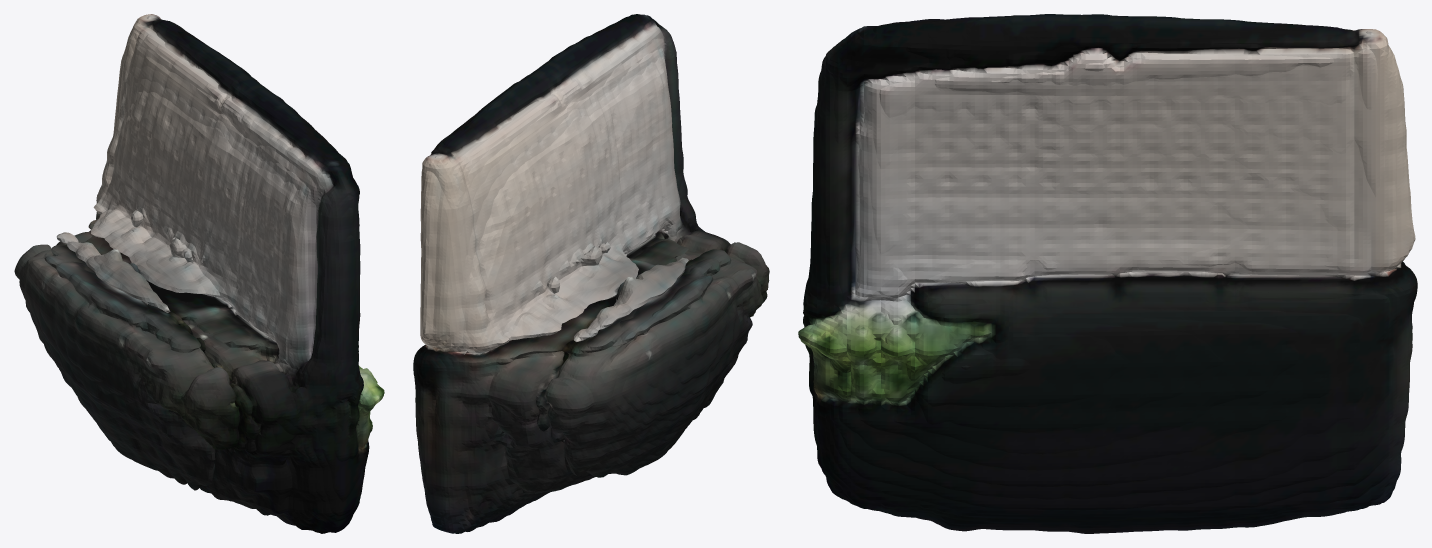
3 renders of one model, left to right at view 1: azimuth 30°, elevation 25°; view 2: azimuth 150°, elevation 25°; view 3: azimuth 270°, elevation 25°, orthographic. The views are drawn at different scales.
Visible parts, largest first — view 1: world; view 2: world; view 3: world.
Boxes of the visible parts, left/top/right/bottom form: world: left=14, top=14, right=384, bottom=533; world: left=413, top=14, right=769, bottom=533; world: left=798, top=14, right=1417, bottom=533.
Size of the model in its own units: 0.487 by 0.924 by 0.9909.
